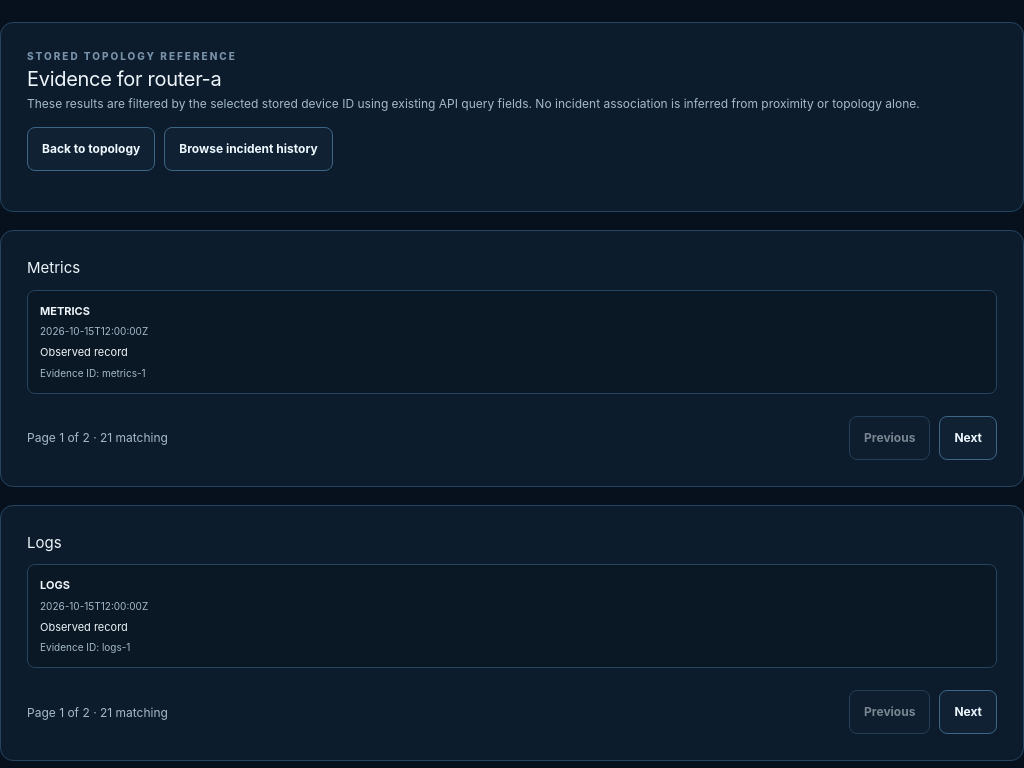
Test: loads only supported device-filtered evidence and preserves pagination
Expected: the 1st text "Observed record" is shown, [40,345,128,359]
What coordinates should you click on to do the following:
click the 1st button "Next"
I would click on:
 (968, 438)
Its box is [939,416,997,460].
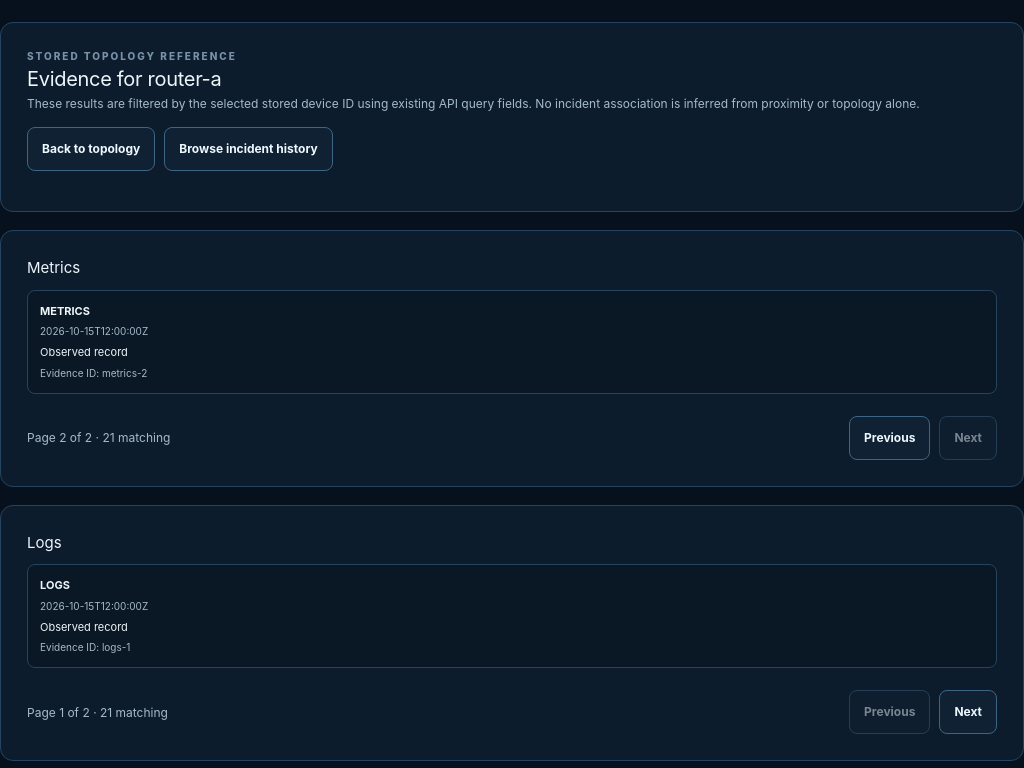
Now the text "Evidence ID: metrics-2" is shown, box [40,367,147,379]
